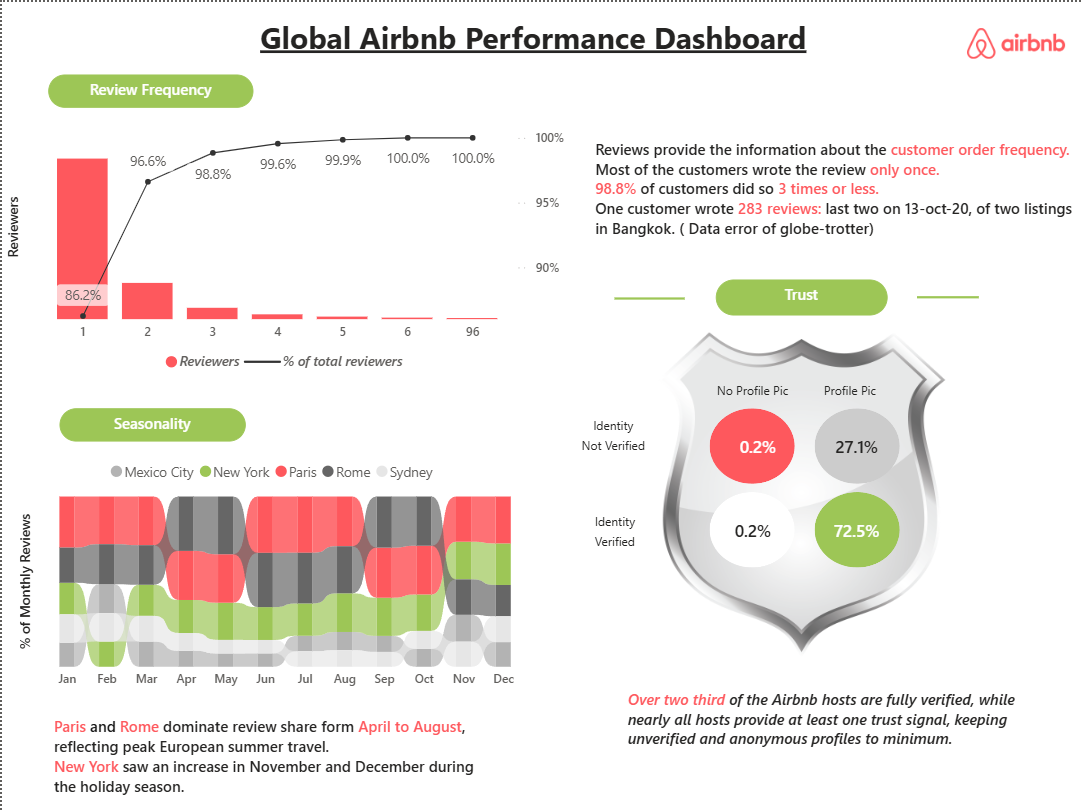

Layout of this report page (visuals, bound fields, positions):
{"tool":"powerbi","page":{"name":"Duplicate of Ratings","canvas":[960,720],"ordinal":2},"visuals":[{"type":"image","box":[857.6,19.6,87,33.7],"z":0},{"type":"textbox","box":[224.6,7.6,510.9,56.5],"z":1000},{"type":"textbox","box":[41.6,64,182.5,29.9],"z":2000},{"type":"textbox","box":[634,247,152.7,31.9],"z":4000},{"type":"shape","box":[544.4,234.9,62.6,58.2],"z":5000},{"type":"shape","box":[813.7,233.8,54.9,58.2],"z":6000},{"type":"lineStackedColumnComboChart","fields":{"Y":["Reviews.Reviewers"],"Category":["Reviews.Reviews per Reviewer"],"Y2":["Reviews.Cumulative % review frequency"]},"box":[0,104.6,505.8,233.7],"z":7000},{"type":"textbox","box":[521.8,116.3,438.5,105.6],"z":8000},{"type":"image","box":[460.6,217.6,499.4,440.7],"z":9000},{"type":"textbox","box":[622.8,329.6,87.5,30.9],"z":10000},{"type":"textbox","box":[710.3,329.6,87.5,30.9],"z":11000},{"type":"textbox","box":[503.3,360.6,80,44.8],"z":12000},{"type":"textbox","box":[504.9,446.1,80.7,45],"z":13000},{"type":"shape","box":[628.5,360.6,75.8,67.2],"z":14000},{"type":"shape","box":[628.5,435.3,75.8,67.2],"z":15000},{"type":"shape","box":[722.4,360.6,75.8,67.2],"z":16000},{"type":"shape","box":[722.4,435.3,75.8,67.2],"z":17000},{"type":"cardVisual","fields":{"Data":["Listings.NotVerified_Profile %"]},"box":[715.9,367,88.6,54.4],"z":18000},{"type":"cardVisual","fields":{"Data":["Listings.Verified_NoProfile %"]},"box":[623.1,440.7,88.6,54.4],"z":19000},{"type":"cardVisual","fields":{"Data":["Listings.NotVerified_NoProfile %"]},"box":[627.4,367,88.6,54.4],"z":20000},{"type":"cardVisual","fields":{"Data":["Listings.Verified_Profile %"]},"box":[715.9,440.7,88.6,54.4],"z":21000},{"type":"textbox","box":[51.2,360.6,165.4,29.9],"z":22000},{"type":"ribbonChart","fields":{"Category":["Reviews.Review Month"],"Y":["Reviews.% of Monthly Reviews"],"Series":["Listings.city"]},"box":[11.5,397.7,461.1,221.3],"z":23000},{"type":"textbox","box":[551,605.2,379.3,77.2],"z":24000},{"type":"textbox","box":[41.5,630.5,389.6,89.9],"z":25000}]}

Visuals, with their boxes in screenshot pixels (x1, y1, x2, y2), scaled from the page's 960x720 canvas onto the 1081x811 screenshot:
image: pyautogui.locateOnScreen(966, 22, 1064, 60)
textbox: pyautogui.locateOnScreen(253, 9, 828, 72)
textbox: pyautogui.locateOnScreen(47, 72, 252, 106)
textbox: pyautogui.locateOnScreen(714, 278, 886, 314)
shape: pyautogui.locateOnScreen(613, 265, 684, 330)
shape: pyautogui.locateOnScreen(916, 263, 978, 329)
lineStackedColumnComboChart - Reviews.Reviewers x Reviews.Reviews per Reviewer: pyautogui.locateOnScreen(0, 118, 570, 381)
textbox: pyautogui.locateOnScreen(588, 131, 1080, 250)
image: pyautogui.locateOnScreen(519, 245, 1080, 742)
textbox: pyautogui.locateOnScreen(701, 371, 800, 406)
textbox: pyautogui.locateOnScreen(800, 371, 898, 406)
textbox: pyautogui.locateOnScreen(567, 406, 657, 457)
textbox: pyautogui.locateOnScreen(569, 502, 659, 553)
shape: pyautogui.locateOnScreen(708, 406, 793, 482)
shape: pyautogui.locateOnScreen(708, 490, 793, 566)
shape: pyautogui.locateOnScreen(813, 406, 899, 482)
shape: pyautogui.locateOnScreen(813, 490, 899, 566)
cardVisual - Listings.NotVerified_Profile %: pyautogui.locateOnScreen(806, 413, 906, 475)
cardVisual - Listings.Verified_NoProfile %: pyautogui.locateOnScreen(702, 496, 801, 558)
cardVisual - Listings.NotVerified_NoProfile %: pyautogui.locateOnScreen(706, 413, 806, 475)
cardVisual - Listings.Verified_Profile %: pyautogui.locateOnScreen(806, 496, 906, 558)
textbox: pyautogui.locateOnScreen(58, 406, 244, 440)
ribbonChart - Reviews.Review Month x Reviews.% of Monthly Reviews: pyautogui.locateOnScreen(13, 448, 532, 697)
textbox: pyautogui.locateOnScreen(620, 682, 1048, 769)
textbox: pyautogui.locateOnScreen(47, 710, 485, 810)
